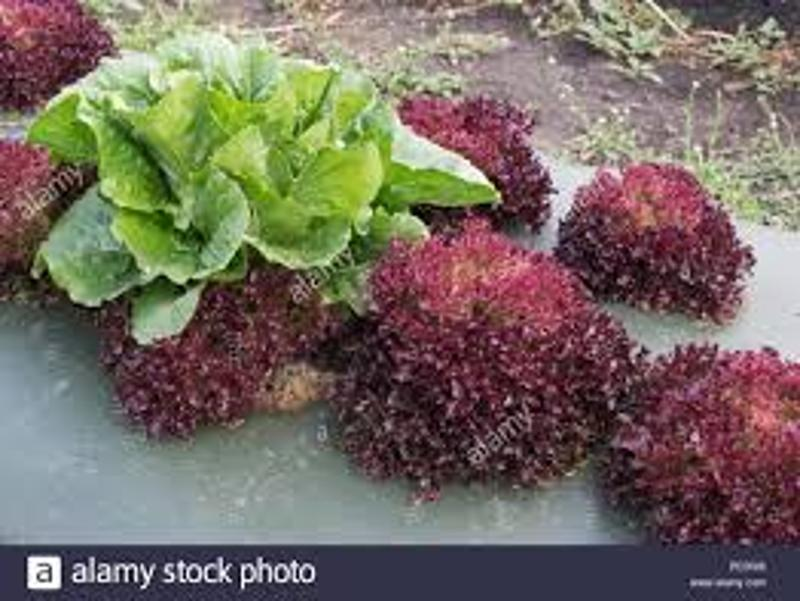cabbage: (69, 38, 408, 283)
red lettuce: (349, 228, 619, 489), (109, 272, 330, 433), (634, 336, 800, 546), (568, 156, 754, 327), (414, 92, 563, 221), (3, 1, 120, 109), (2, 130, 88, 263)
